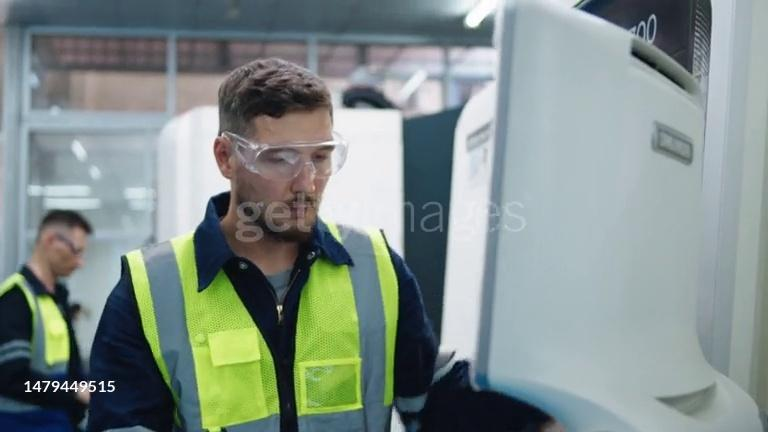person: (89, 54, 478, 432), (0, 208, 96, 432)
